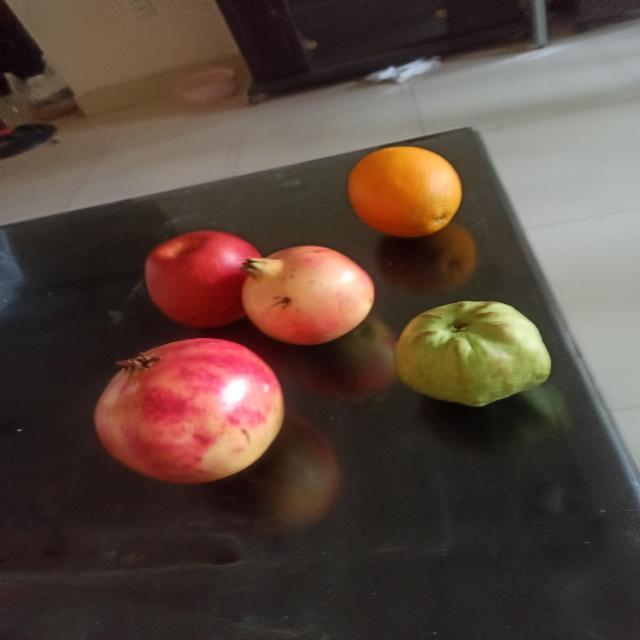apple: (147, 233, 257, 323)
